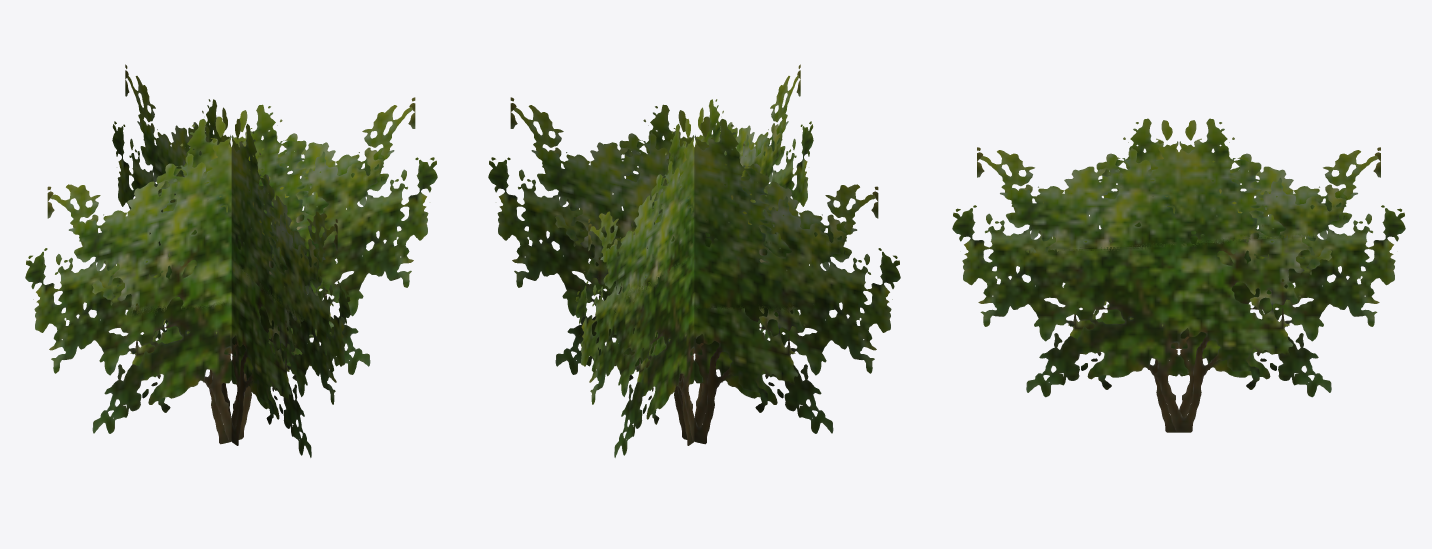
File: poison_ivy_3.FBX
3 views of the same model, side by side, from view 1: azimuth 30°, elevation 25°; view 2: azimuth 150°, elevation 25°; view 3: azimuth 270°, elevation 25° (orthographic). The views are drawn at different scales.
Parts seen in each view (by area): view 1: poison_ivy_3; view 2: poison_ivy_3; view 3: poison_ivy_3.
Boxes of the visible parts, x1,y1,x2,y2 form: poison_ivy_3: [25, 64, 437, 457]; poison_ivy_3: [488, 64, 900, 457]; poison_ivy_3: [952, 118, 1405, 432].
Bounding box in the file's own units: 117 × 90.24 × 117.
